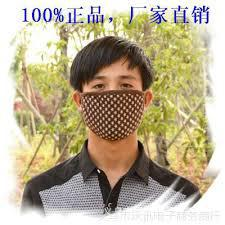OK: (81, 74, 146, 139)
